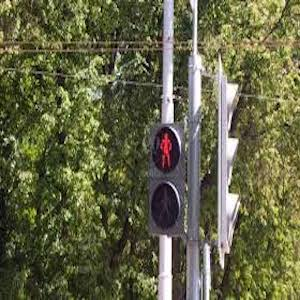red: (154, 132, 176, 168)
